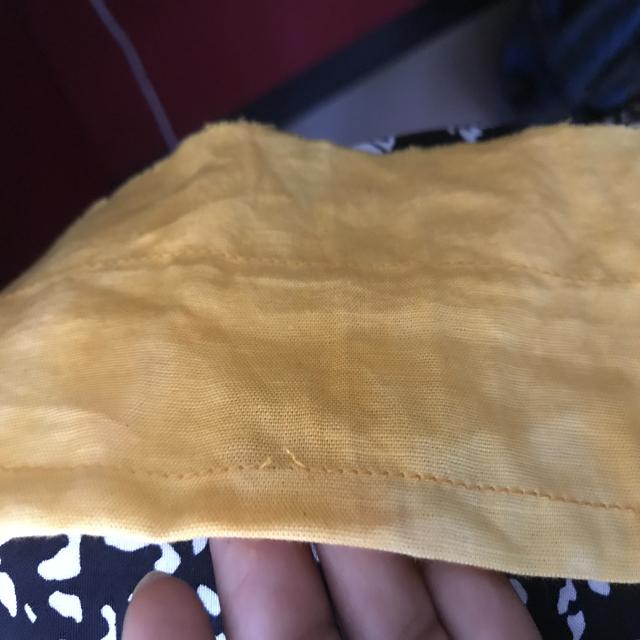broken: (246, 438, 314, 486)
